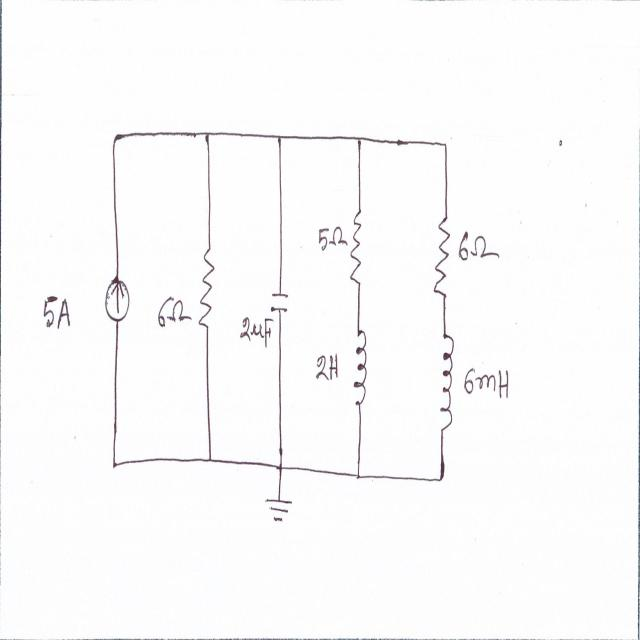capacitor: (270, 284, 291, 318)
current_source: (101, 275, 132, 328)
ground: (265, 494, 294, 531)
inductor: (439, 331, 456, 439), (352, 328, 370, 412)
resistor: (196, 246, 222, 330), (434, 214, 452, 300), (349, 208, 364, 290)
